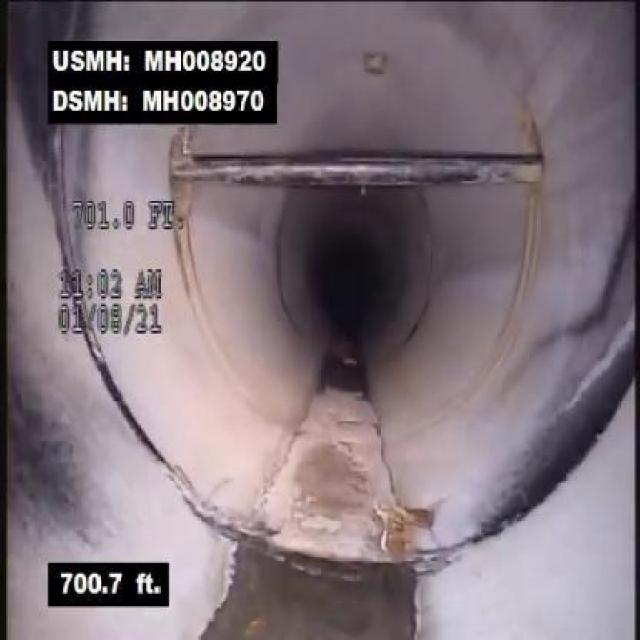Utility intrusion: (162, 118, 566, 217)
